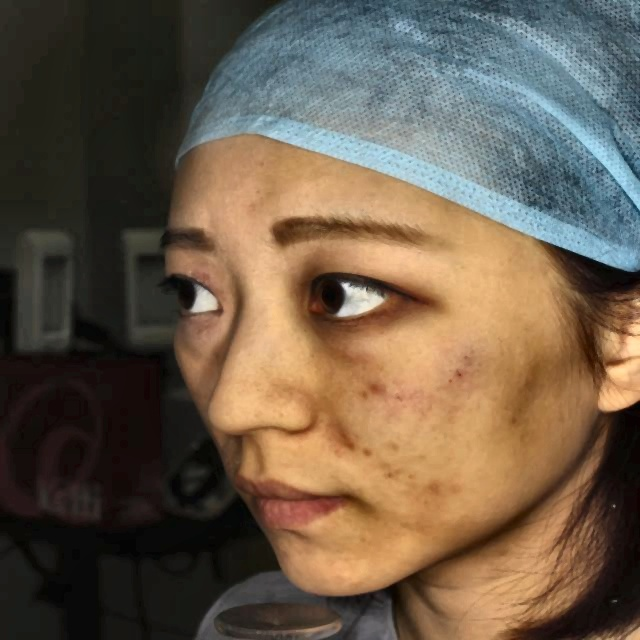comedone: (334, 426, 364, 454), (362, 379, 390, 404), (426, 474, 445, 504)
